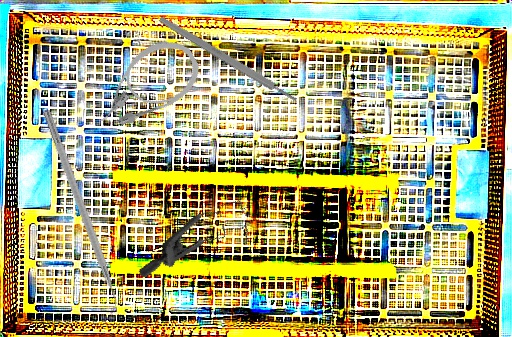Cannula: (80, 29, 209, 140)
Chopper: (31, 109, 126, 321)
Scalpel Handle: (157, 14, 299, 105)
Speculum: (137, 173, 262, 312)
